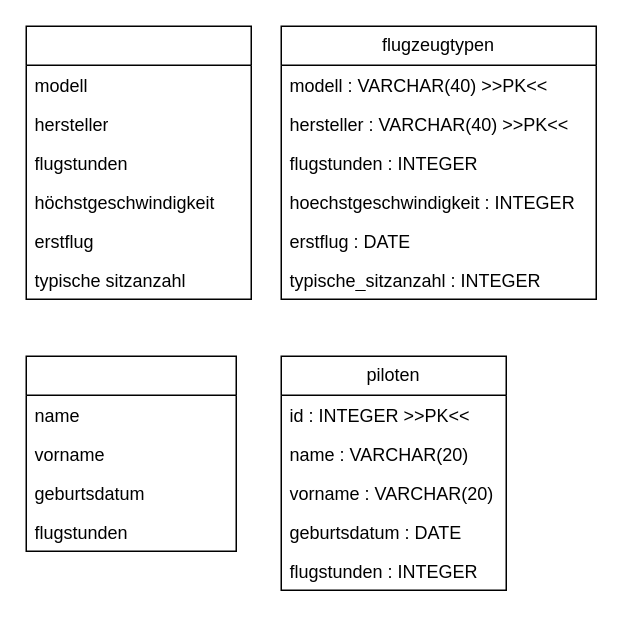
This 623x621 diagram has some shape labels left out. Here are the shapes that lost their labels. From the top down, the box of each, then its label:
(25, 25, 251, 299): Flugzeugtyp
(25, 355, 236, 551): Pilot
